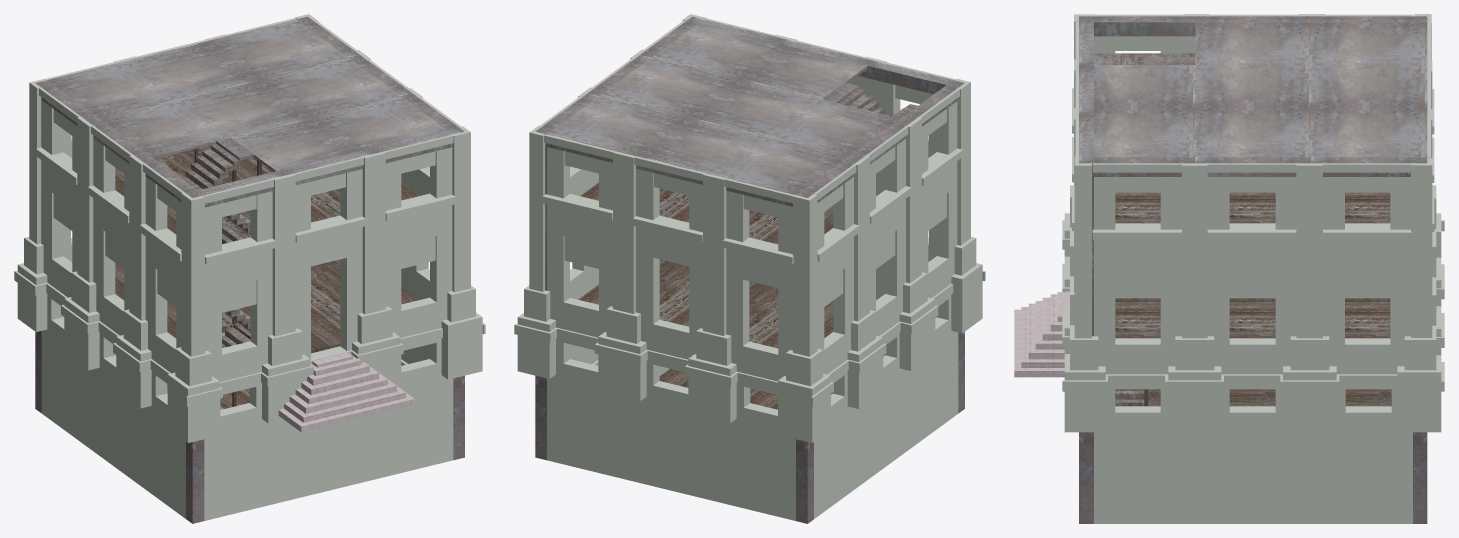
Rendered from BagBuilding4High.fbx.
The picture shows the model from 3 angles, left to right: view 1: azimuth 30°, elevation 25°; view 2: azimuth 150°, elevation 25°; view 3: azimuth 270°, elevation 25°; orthographic projection. The views are drawn at different scales.
Visible parts, largest first — view 1: mainA300, roofA300, floorsA300, stairsFront, stairsA; view 2: mainA300, roofA300, floorsA300, stairsA; view 3: mainA300, roofA300, floorsA300, stairsFront, platforms, stairsf.
Boxes of the visible parts, x1,y1,x2,y2 form: mainA300: [14, 14, 485, 520]; roofA300: [35, 16, 464, 523]; floorsA300: [115, 145, 419, 408]; stairsFront: [278, 352, 414, 432]; stairsA: [185, 144, 242, 188]; mainA300: [514, 14, 985, 520]; roofA300: [535, 16, 964, 523]; floorsA300: [578, 114, 890, 409]; stairsA: [839, 89, 889, 115]; mainA300: [1062, 14, 1444, 523]; roofA300: [1079, 16, 1427, 523]; floorsA300: [1115, 192, 1391, 406]; stairsFront: [1014, 291, 1069, 377]; platforms: [1094, 53, 1195, 64]; stairsf: [1115, 389, 1144, 406].
Bounding box in the file's own units: 18.44 × 19.22 × 20.78.
